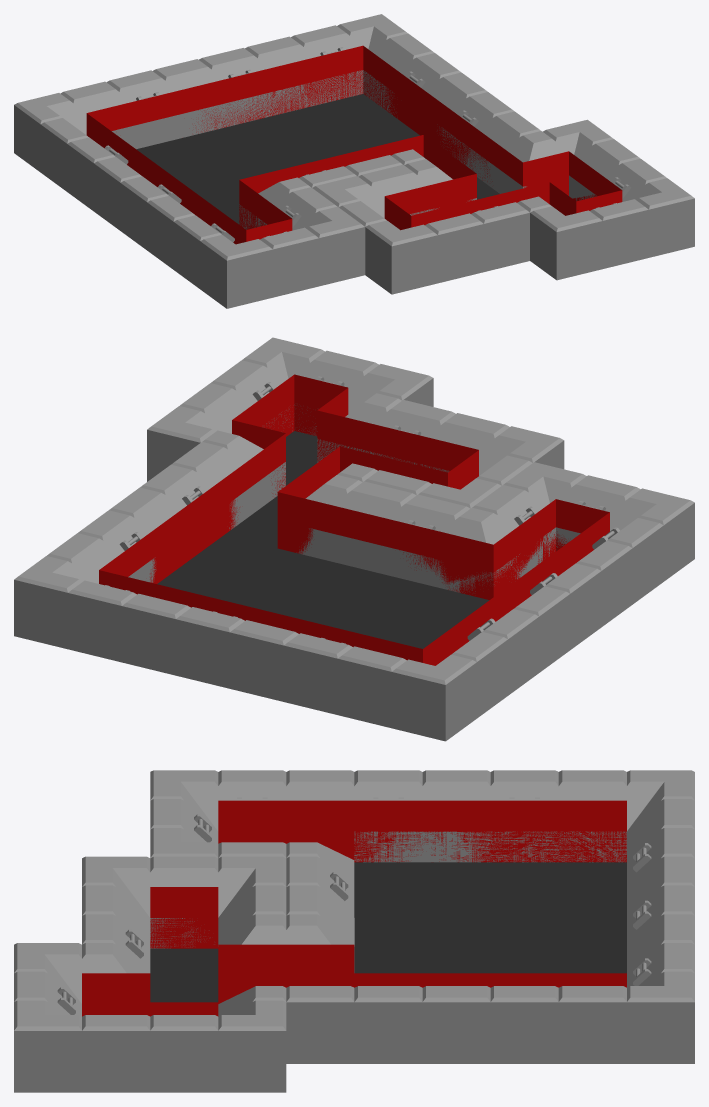
Rendered from level_5.fbx.
3 views of the same model, one above another, from view 1: azimuth 30°, elevation 25°; view 2: azimuth 150°, elevation 25°; view 3: azimuth 270°, elevation 25° (orthographic). The views are drawn at different scales.
Visible parts, largest first — view 1: Plane.030, bounds.005, ground.005; view 2: Plane.030, bounds.005, ground.005; view 3: Plane.030, bounds.005, ground.005.
Part boxes in pixels (x1,y1,x2,y2): Plane.030: [14, 14, 694, 308]; bounds.005: [86, 45, 622, 244]; ground.005: [136, 94, 499, 224]; Plane.030: [14, 337, 694, 741]; bounds.005: [99, 374, 609, 665]; ground.005: [157, 431, 489, 648]; Plane.030: [14, 770, 694, 1092]; bounds.005: [82, 800, 626, 1016]; ground.005: [150, 862, 626, 1002].
Size of the model in its own units: 900 by 105 by 1000.
